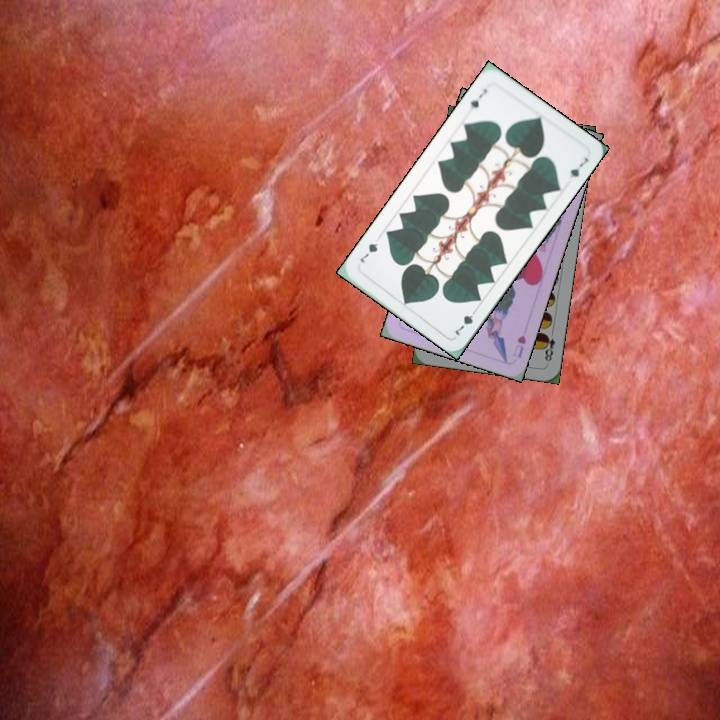E8: (539, 326, 558, 364)
G7: (451, 304, 480, 338), (464, 84, 490, 115)
HU: (509, 331, 529, 361)
